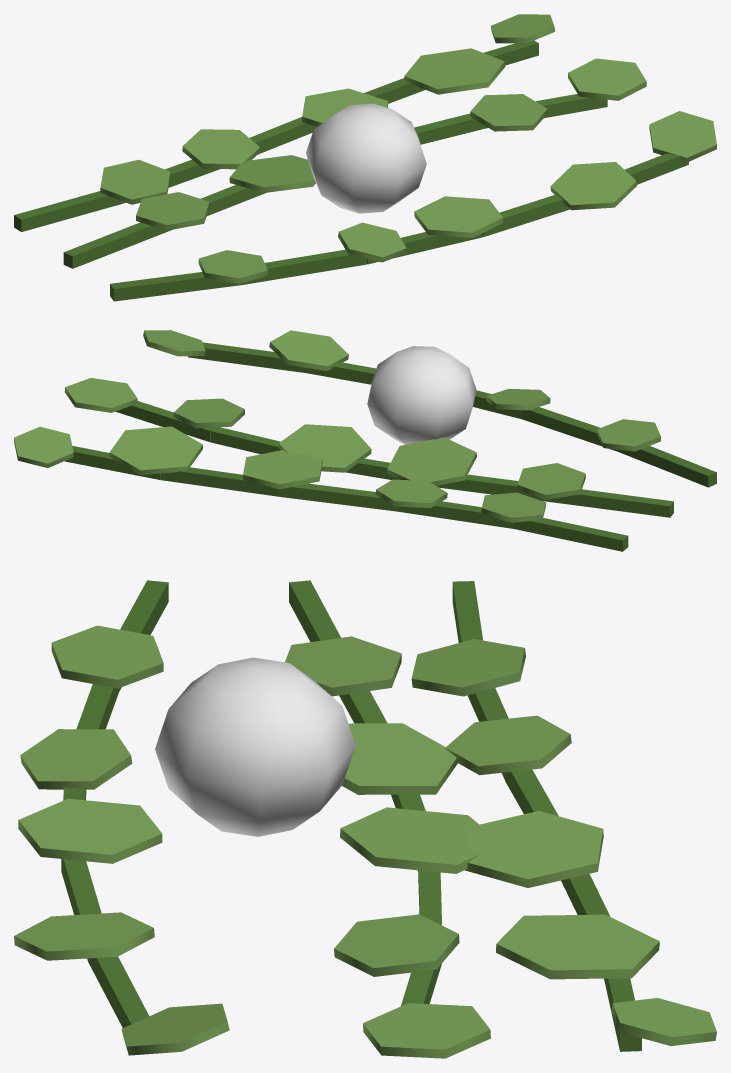
File: farm_gourd_stage4.glb
3 renders of one model, top to bottom at view 1: azimuth 30°, elevation 25°; view 2: azimuth 150°, elevation 25°; view 3: azimuth 270°, elevation 25°, orthographic. The views are drawn at different scales.
Parts seen in each view (by area): view 1: FarmBody, CropAccent; view 2: FarmBody, CropAccent; view 3: FarmBody, CropAccent.
Part boxes in pixels (bbox=[...]): FarmBody: bbox=[14, 14, 716, 301]; CropAccent: bbox=[306, 103, 426, 213]; FarmBody: bbox=[14, 330, 716, 551]; CropAccent: bbox=[367, 346, 476, 444]; FarmBody: bbox=[14, 580, 716, 1058]; CropAccent: bbox=[155, 657, 355, 836].
Bounding box in the file's own units: 2.63 × 0.4001 × 1.61.
